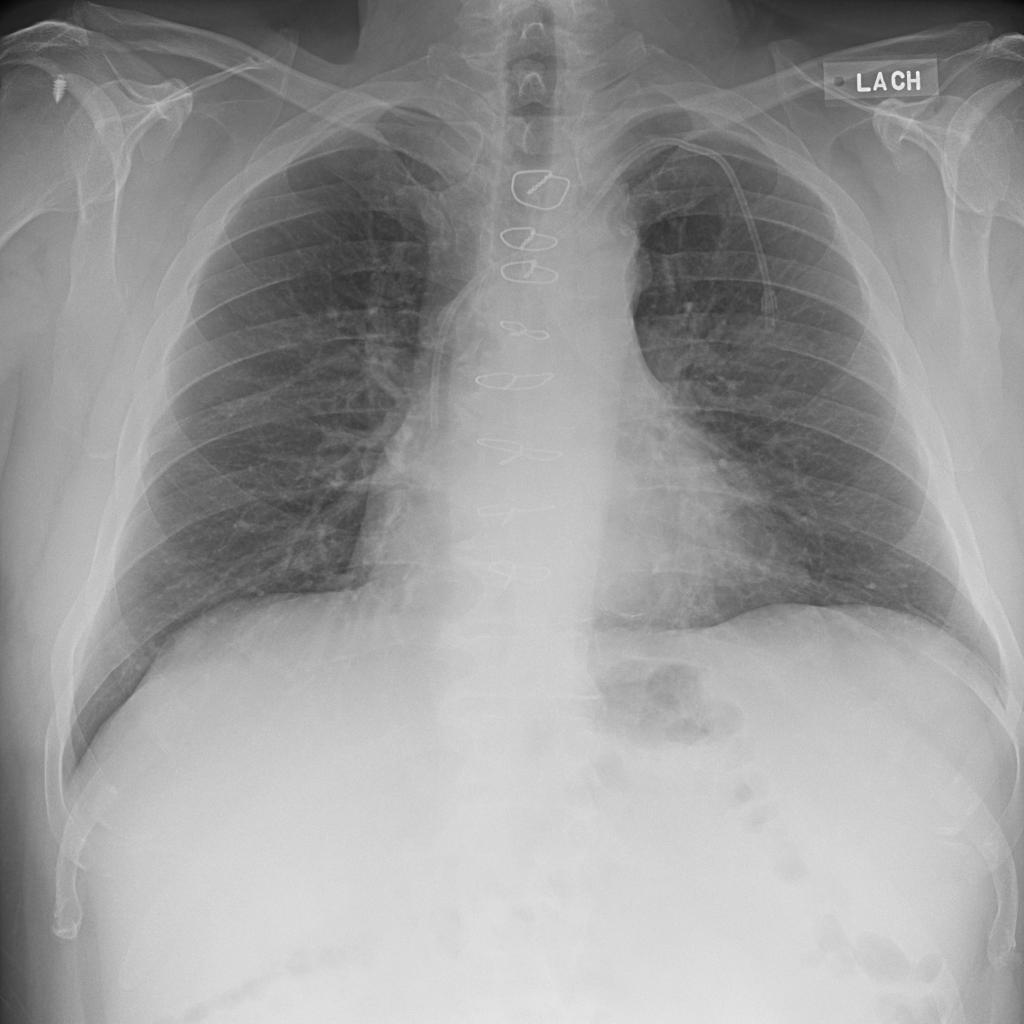Nodule: (336, 92, 359, 113)
